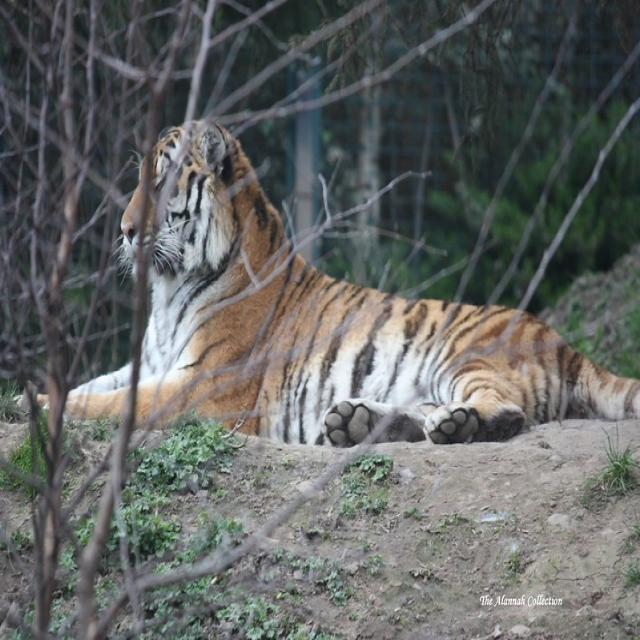Tiger: (101, 114, 594, 440)
